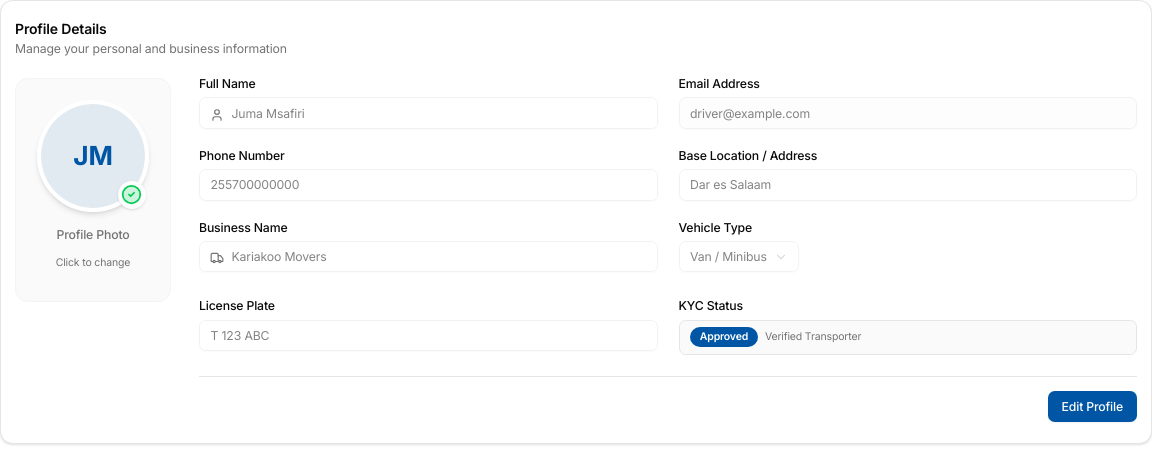
it: TransporterProfileTab › disables all fields until Edit Profile is clicked
The width and height of the screenshot is (1152, 462).
Check: the field labelled "Full Name" is disabled, box [199,97,658,129]
Check: the field labelled "Business Name" is disabled, box [199,241,658,272]
Click the button "Edit Profile" at (1092, 406), box [1048,390,1137,422]
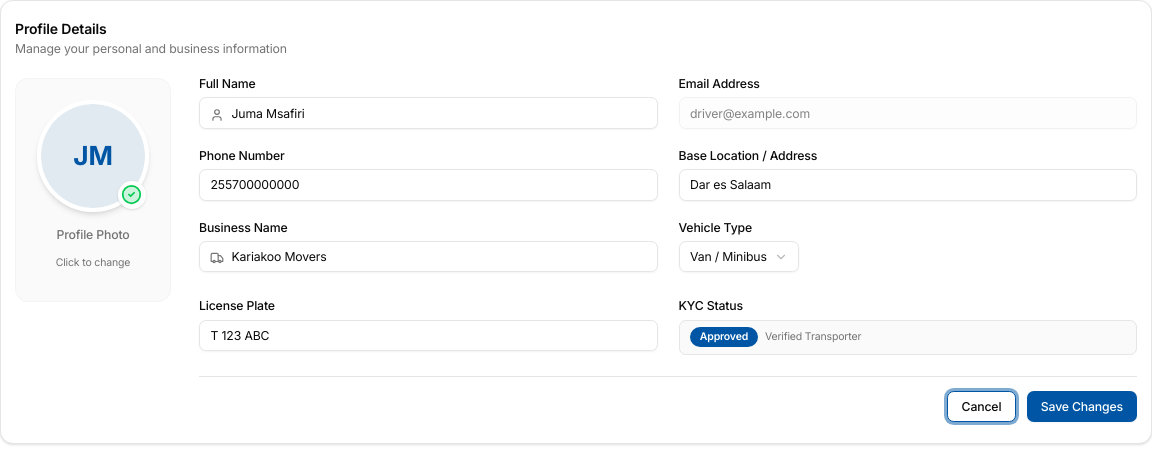
Check: the field labelled "Email Address" is disabled, box [678,97,1137,129]
Check: the field labelled "Full Name" is enabled, box [199,97,658,129]
Check: the field labelled "Business Name" is enabled, box [199,241,658,272]
